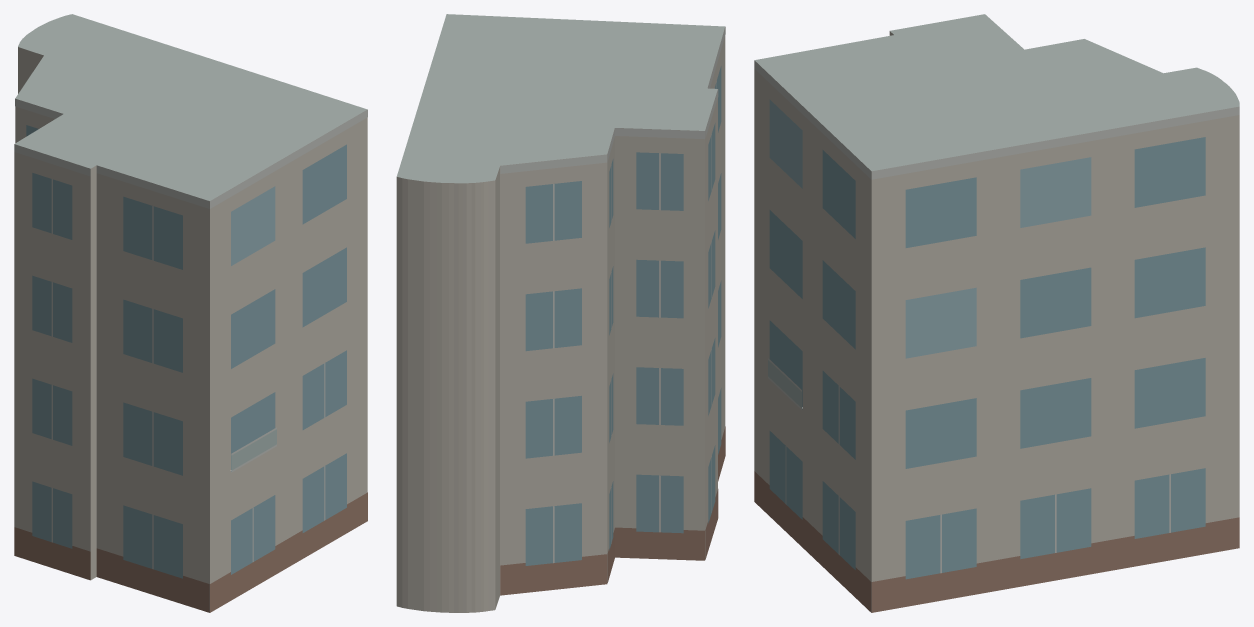
Rendered from survey-upis-32501666.glb.
3 views of the same model, side by side, from view 1: azimuth 30°, elevation 25°; view 2: azimuth 150°, elevation 25°; view 3: azimuth 270°, elevation 25° (orthographic). The views are drawn at different scales.
Parts seen in each view (by area): view 1: survey-upis-32501666.tmp; view 2: survey-upis-32501666.tmp; view 3: survey-upis-32501666.tmp.
Boxes of the visible parts, x1,y1,x2,y2 form: survey-upis-32501666.tmp: (14,14,367,612); survey-upis-32501666.tmp: (396,14,725,612); survey-upis-32501666.tmp: (754,14,1239,612).
Bounding box in the file's own units: 9.79 × 12.8 × 12.76.
